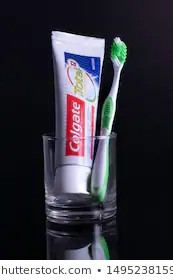colgate-total-150gm: (48, 14, 110, 199)
toothbrush: (86, 27, 138, 203)
